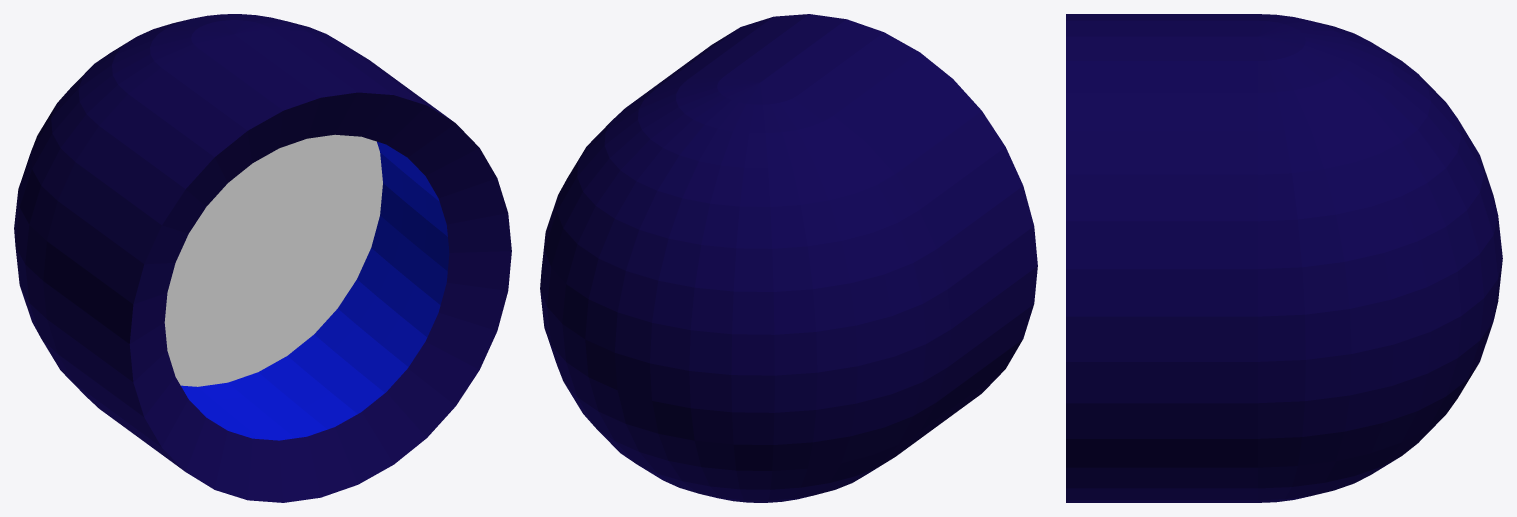
Rendered from AbyssalPortal.glb.
The picture shows the model from 3 angles, left to right: view 1: azimuth 30°, elevation 25°; view 2: azimuth 150°, elevation 25°; view 3: azimuth 270°, elevation 25°; orthographic projection. The views are drawn at different scales.
Visible parts, largest first — view 1: Sphere, Circle, Tunnel; view 2: Sphere; view 3: Sphere.
Boxes of the visible parts, box(x1,y1,x2,y2) form: Sphere: box(14, 14, 511, 502); Circle: box(164, 134, 382, 386); Tunnel: box(181, 141, 449, 440); Sphere: box(540, 14, 1037, 502); Sphere: box(1066, 14, 1502, 502).
Size of the model in its own units: 240 by 240 by 214.
